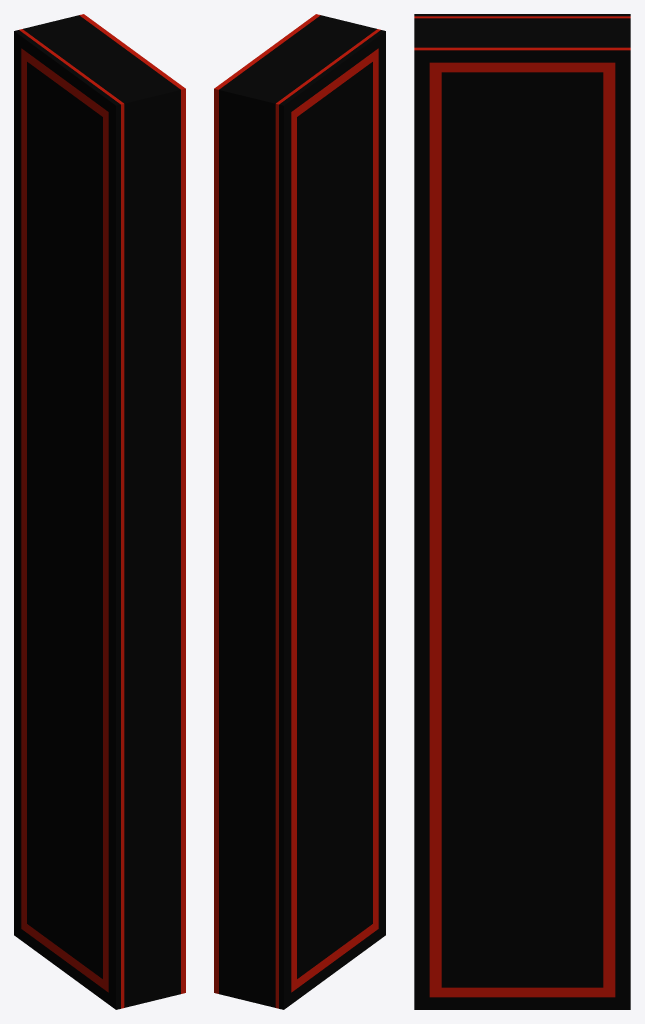
3 views of the same model, side by side, from view 1: azimuth 30°, elevation 25°; view 2: azimuth 150°, elevation 25°; view 3: azimuth 270°, elevation 25° (orthographic). The views are drawn at different scales.
Visible parts, largest first — view 1: Box005; view 2: Box005; view 3: Box005.
Part boxes in pixels (bbox=[...]): Box005: bbox=[14, 14, 185, 1009]; Box005: bbox=[214, 14, 385, 1009]; Box005: bbox=[414, 14, 630, 1009].
Bounding box in the file's own units: 17.36 × 215 × 43.94.
